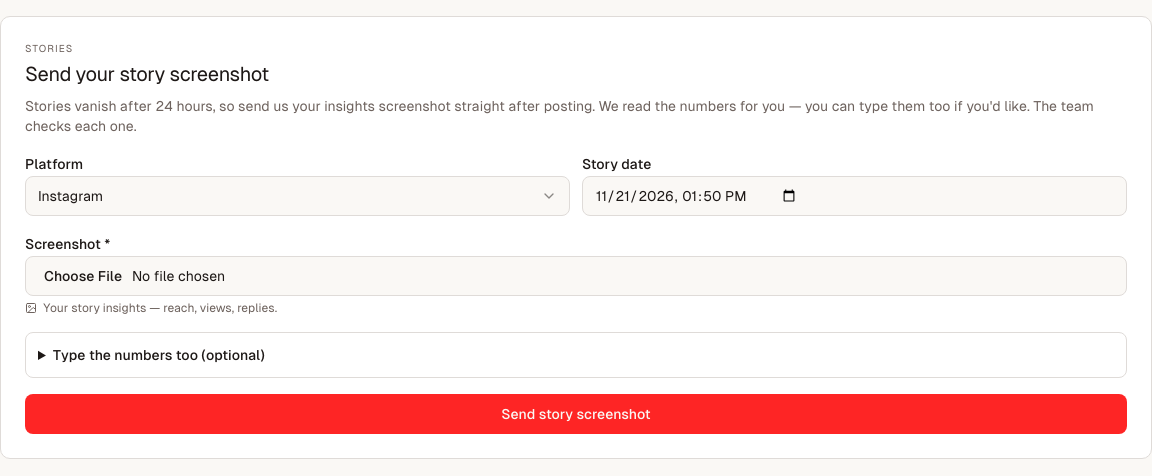
creator story step › doesn't claim to have read numbers when the AI couldn't read the screenshot
Earlier steps of the test are not shown.
Click the button "Send story screenshot".
click(576, 414)  # box [25, 394, 1127, 434]
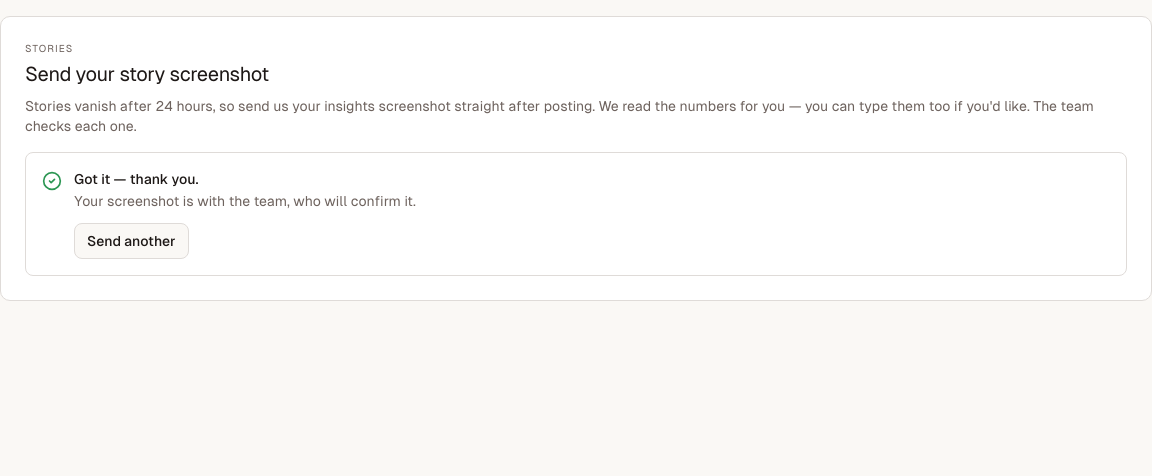
Now the text "Got it — thank you." is shown, box [74, 171, 198, 187]
Now the text "Your screenshot is with the team, who will confirm it." is shown, box [74, 191, 416, 211]
